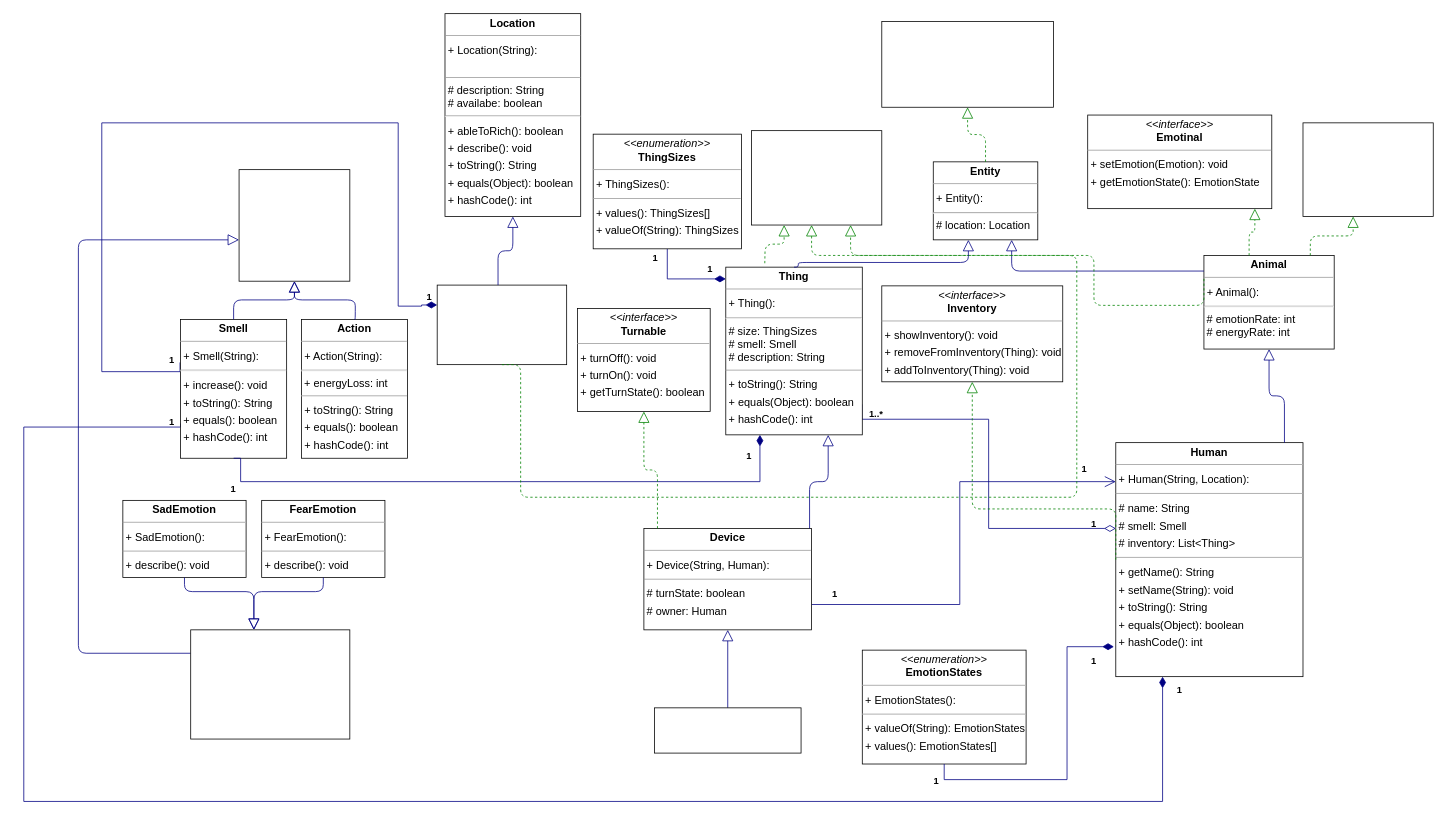
Image size: 1447x826. Some labels were removed from this diagram. The centre of each missing label's shape, as x and y in pixels:
<<interface>> Actionable + doAction(Action): void + isAble(Action): boolean: pixel 1367 169
<<interface>> Located + setLocation(Location): void + getLocation(): Location: pixel 967 64
<<interface>> Smelling + setSmell(Smell): void + getSmell(): Smell: pixel 816 177
Emotion + Emotion(): # emotionRateChange: int + getEmotionRateChange(): int: pixel 270 684
Flashlight + Flashlight(String, Human):: pixel 727 730
Inmaterial + Inmaterial(): # description: String + describe(): void: pixel 294 225
SmallLocation + SmallLocation(String): # smell: Smell: pixel 501 324
